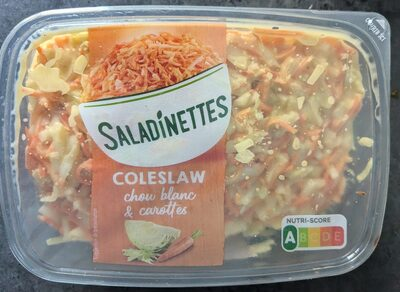Coleslaw, choux blanc et carottes: (20, 15, 380, 277)
